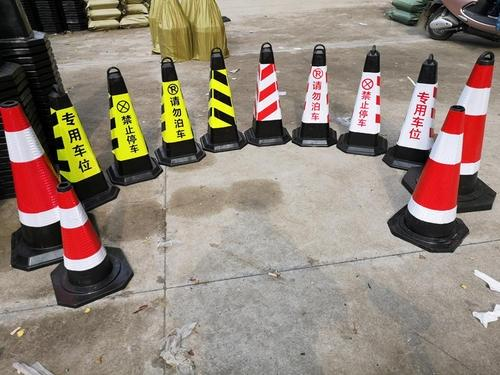cone_barrel: (399, 104, 465, 238), (53, 179, 118, 291), (45, 87, 108, 201), (97, 67, 159, 182), (452, 49, 495, 200), (387, 58, 442, 167), (152, 57, 204, 166), (340, 46, 387, 154), (198, 48, 246, 151), (243, 42, 290, 144), (291, 46, 337, 146)
